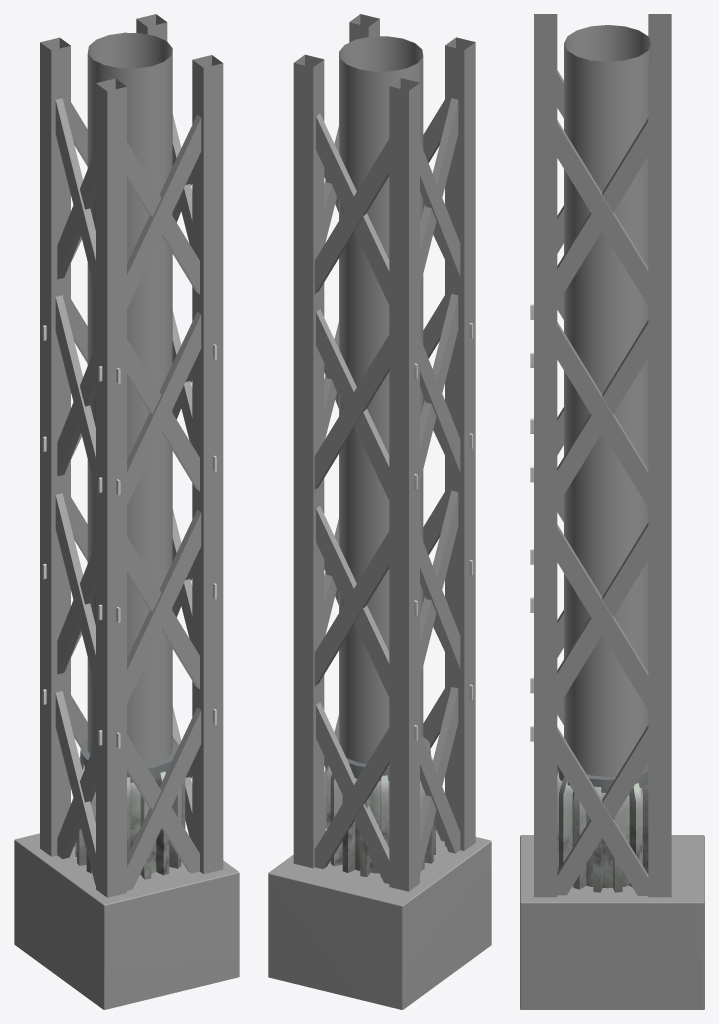
File: Tower.fbx
The picture shows the model from 3 angles, left to right: view 1: azimuth 30°, elevation 25°; view 2: azimuth 150°, elevation 25°; view 3: azimuth 270°, elevation 25°; orthographic projection. The views are drawn at different scales.
Visible parts, largest first — view 1: pCylinder10, pCube22, pCube95, pCube99, pCube101, pCube97, pCube313, pCube314, pCube312, pCylinder26, pCube310, pCube326 (+20 smaller); view 2: pCylinder10, pCube22, pCube101, pCube100, pCube95, pCylinder26, pCube318, pCube320, pCube315, pCube107, pCube322, pCube108 (+18 smaller); view 3: pCylinder10, pCube22, pCube100, pCube99, pCylinder26, pCube317, pCube106, pCube319, pCube329, pCube321, pCube105, pCube307 (+4 smaller).
Boxes of the visible parts, box(x1,y1,x2,y2) form: pCylinder10: box(87, 32, 172, 765); pCube22: box(14, 833, 239, 1009); pCube95: box(96, 78, 126, 897); pCube99: box(192, 55, 223, 874); pCube101: box(40, 37, 70, 856); pCube97: box(127, 311, 201, 505); pCube313: box(127, 114, 201, 308); pCube314: box(127, 509, 201, 703); pCube312: box(127, 707, 201, 890); pCylinder26: box(75, 756, 185, 879); pCube310: box(55, 295, 95, 490); pCube326: box(55, 98, 95, 293); pCylinder10: box(339, 36, 423, 763); pCube22: box(268, 830, 491, 1009); pCube101: box(389, 78, 419, 891); pCube100: box(293, 54, 324, 868); pCube95: box(445, 37, 475, 850); pCylinder26: box(326, 754, 435, 877); pCube318: box(316, 309, 389, 500); pCube320: box(316, 506, 389, 696); pCube315: box(316, 113, 389, 304); pCube107: box(316, 702, 389, 883); pCube322: box(314, 531, 389, 685); pCube108: box(314, 335, 389, 489); pCylinder10: box(564, 25, 651, 776); pCube22: box(520, 835, 704, 1009); pCube100: box(648, 62, 671, 897); pCube99: box(534, 62, 557, 897); pCylinder26: box(557, 769, 648, 892); pCube317: box(557, 524, 648, 709); pCube106: box(557, 120, 648, 305); pCube319: box(557, 322, 648, 507); pCube329: box(557, 727, 648, 895); pCube321: box(557, 118, 648, 303); pCube105: box(557, 522, 648, 707); pCube307: box(557, 320, 648, 505).
Size of the model in its own units: 163 by 1046 by 188.
